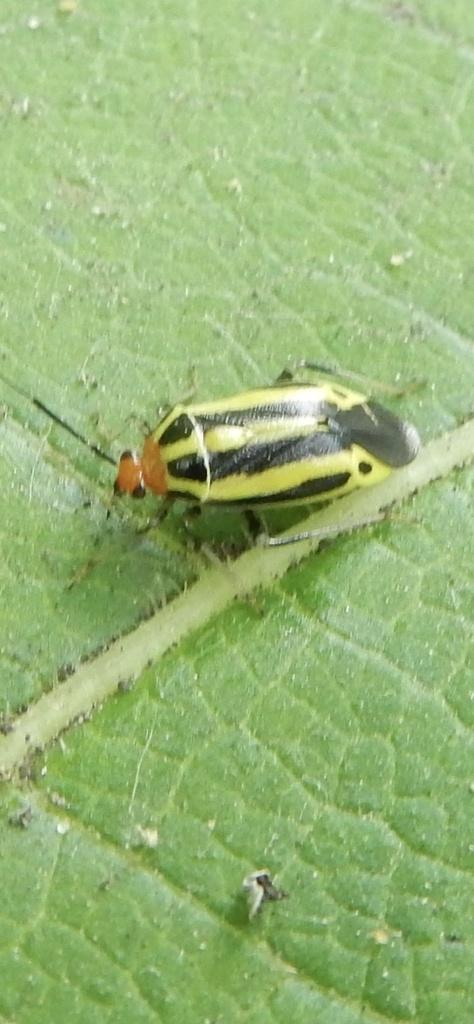plant_bugs: (0, 306, 474, 601)
